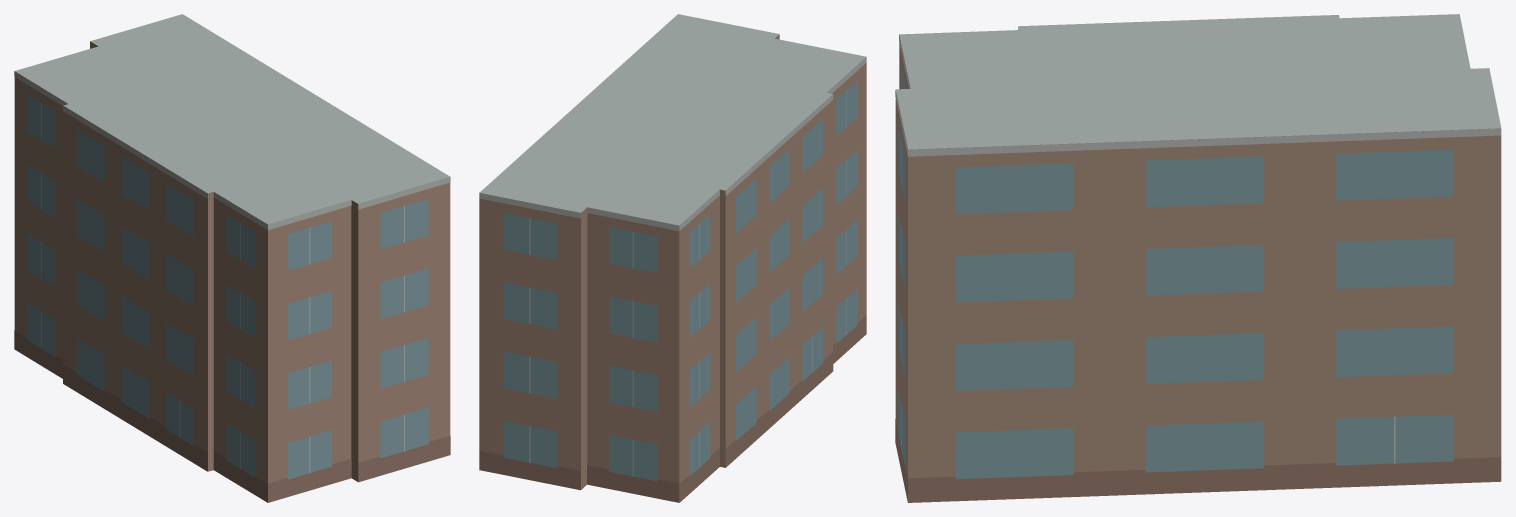
File: survey-upis-32622048.glb
3 views of the same model, side by side, from view 1: azimuth 30°, elevation 25°; view 2: azimuth 150°, elevation 25°; view 3: azimuth 270°, elevation 25° (orthographic). The views are drawn at different scales.
Parts seen in each view (by area): view 1: survey-upis-32622048.tmp; view 2: survey-upis-32622048.tmp; view 3: survey-upis-32622048.tmp.
Boxes of the visible parts, bbox=[...] form: survey-upis-32622048.tmp: bbox=[14, 14, 450, 502]; survey-upis-32622048.tmp: bbox=[479, 14, 866, 502]; survey-upis-32622048.tmp: bbox=[895, 14, 1501, 502].
Size of the model in its own units: 9.8 by 11.9 by 18.5.
